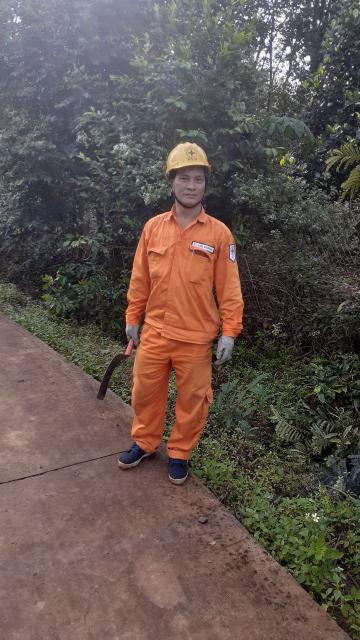gloves: (207, 331, 245, 371), (116, 321, 149, 353)
helmet: (151, 143, 219, 179)
shoes: (109, 433, 158, 471), (161, 445, 195, 492)
